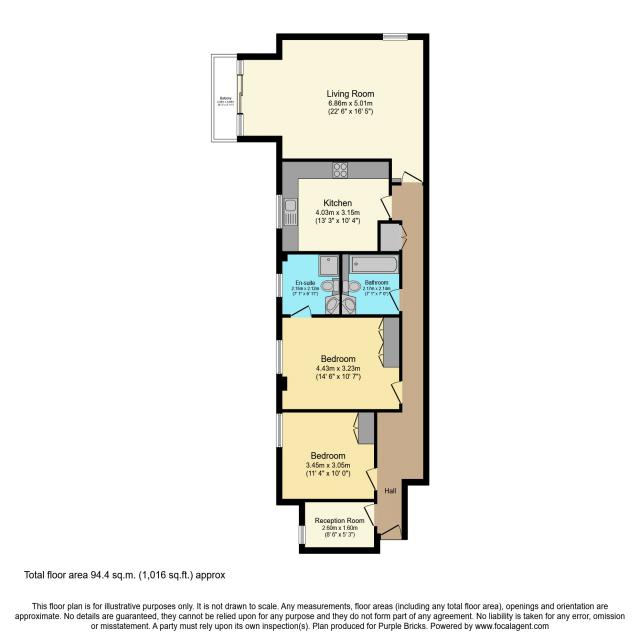DOOR: (380, 523, 402, 540), (362, 503, 377, 527), (388, 288, 403, 312), (401, 170, 423, 186), (365, 467, 378, 491), (390, 380, 403, 404), (379, 195, 392, 219), (290, 304, 312, 318)
ROOM: (236, 33, 430, 186), (276, 305, 403, 413), (276, 158, 392, 255), (276, 409, 378, 506), (298, 499, 381, 554)
SLIDING DOOR: (236, 74, 244, 114)
WINDOW: (275, 413, 283, 448), (276, 339, 283, 375), (276, 194, 283, 229), (382, 33, 409, 41), (236, 114, 244, 137), (276, 273, 283, 298), (298, 525, 306, 545), (236, 60, 244, 75)
